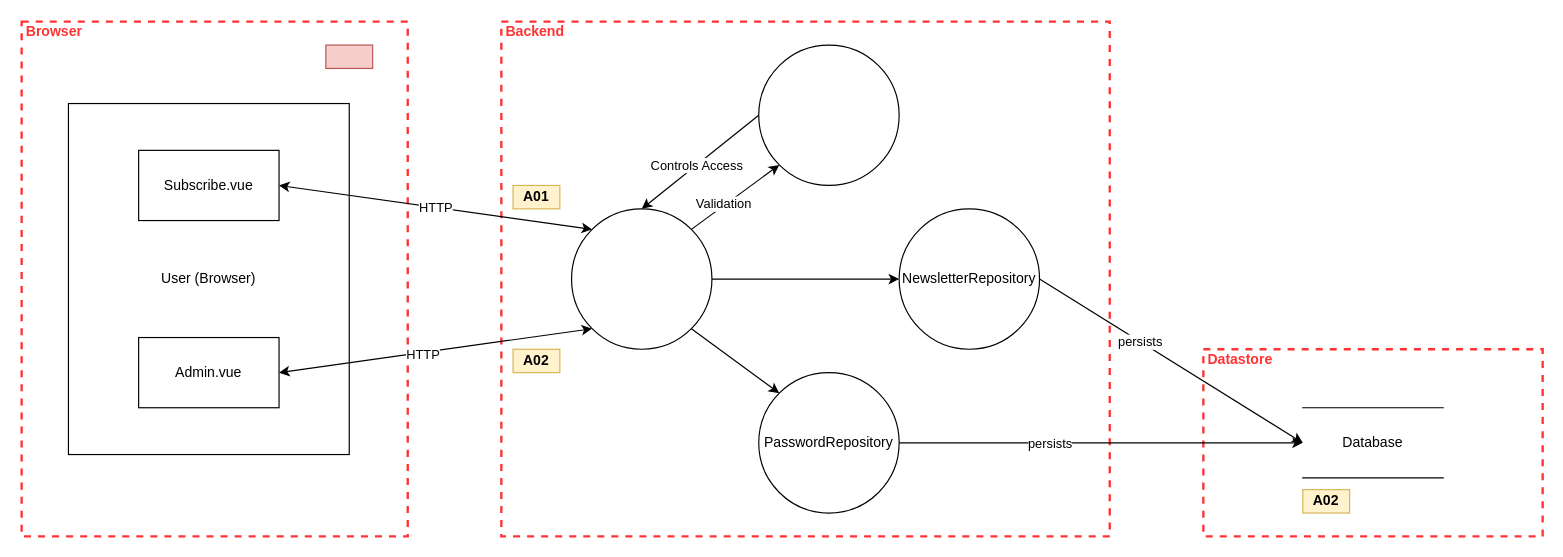
This 1563x557 diagram has some shape labels left out. Here are the shapes that lost their labels. From the top down, the centre of each, then its label:
the point at 349,56: TA01
the point at 828,114: SecurityConfig
the point at 641,278: NewsletterController
